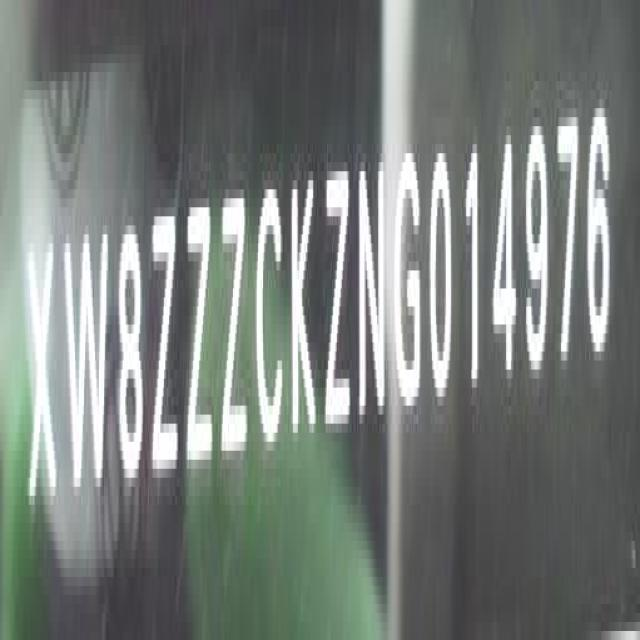0: (428, 140, 457, 416)
1: (466, 130, 483, 407)
4: (494, 122, 520, 397)
6: (585, 93, 612, 365)
7: (558, 103, 583, 382)
8: (119, 214, 145, 498)
9: (523, 110, 549, 397)
C: (256, 175, 286, 462)
G: (393, 144, 422, 434)
K: (288, 164, 320, 450)
N: (356, 140, 389, 448)
W: (64, 222, 109, 510)
X: (28, 241, 58, 519)
Z: (219, 180, 250, 470), (324, 149, 354, 445), (187, 189, 217, 480), (153, 194, 180, 490)
